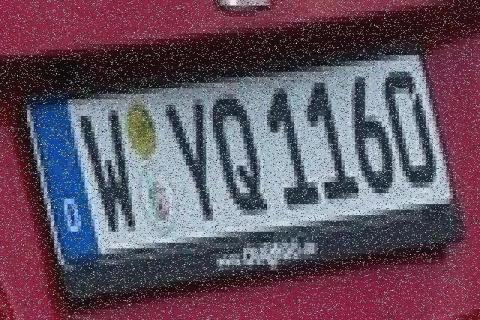LicensePlate: (24, 58, 472, 290)
